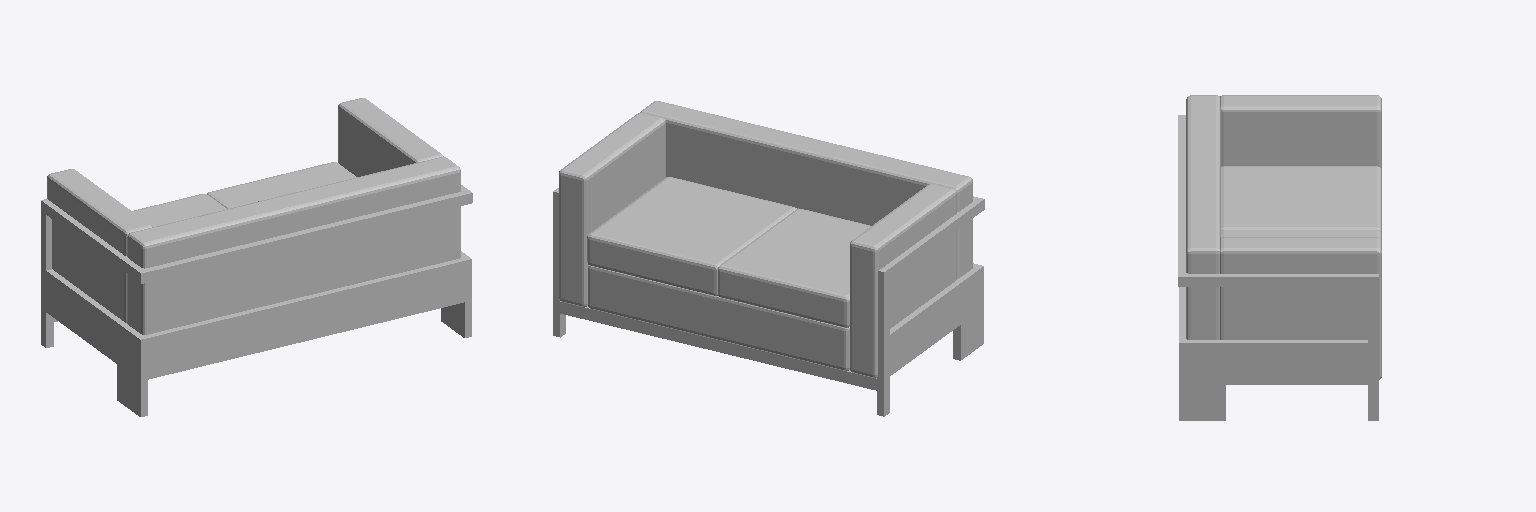
Rendered from sofa.obj.
3 views of the same model, side by side, from view 1: azimuth 30°, elevation 25°; view 2: azimuth 150°, elevation 25°; view 3: azimuth 270°, elevation 25° (orthographic).
Parts seen in each view (by area): view 1: grp1, grp2; view 2: grp1, grp2; view 3: grp1, grp2.
Boxes of the visible parts, x1=… form: grp1: x1=47, y1=98, x2=460, y2=334; grp2: x1=41, y1=185, x2=472, y2=416; grp1: x1=559, y1=101, x2=972, y2=377; grp2: x1=553, y1=188, x2=984, y2=416; grp1: x1=1186, y1=95, x2=1381, y2=379; grp2: x1=1178, y1=115, x2=1378, y2=420.
Size of the model in its own units: 22.82 by 11.08 by 12.16.